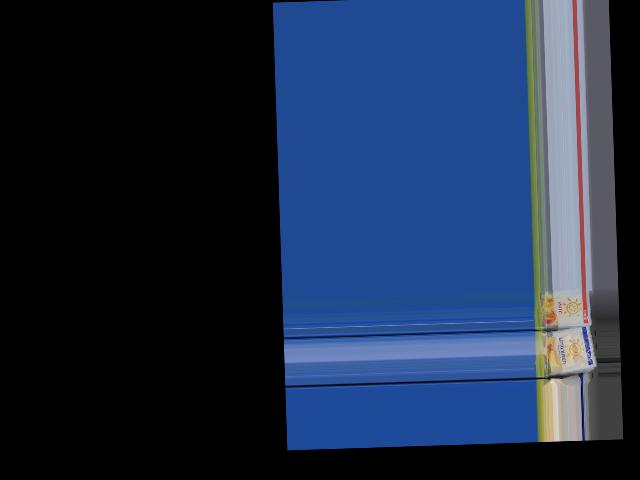cheese: (533, 287, 594, 328)
